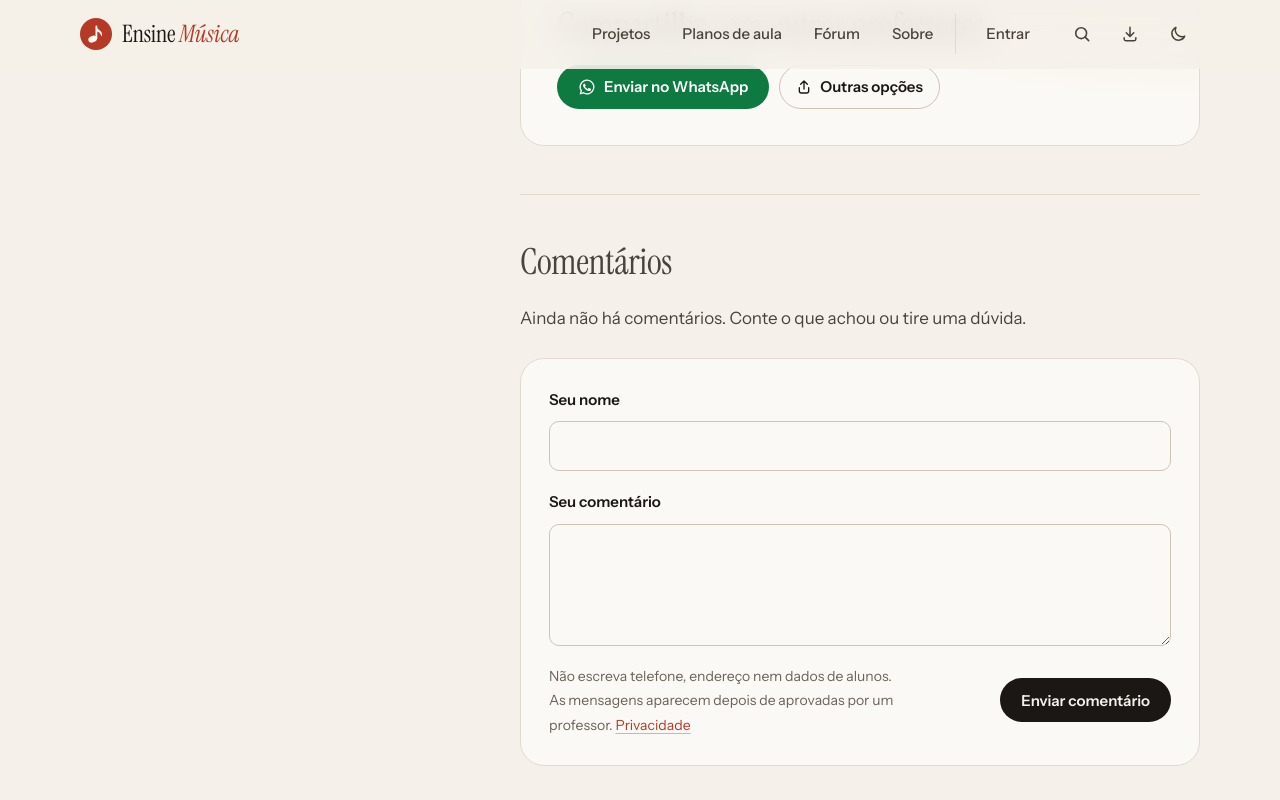
Test: visitante comenta num projeto: a mensagem espera aprovação e fica visível só para ele
(page scrolled)
expect the text "Ainda não há comentários. Conte o que achou ou tire uma dúvida." is shown: met, box [520, 308, 1026, 328]
Step 1. Type "Paula" into the field labelled "Seu nome" → (860,446), box [549, 421, 1171, 471]
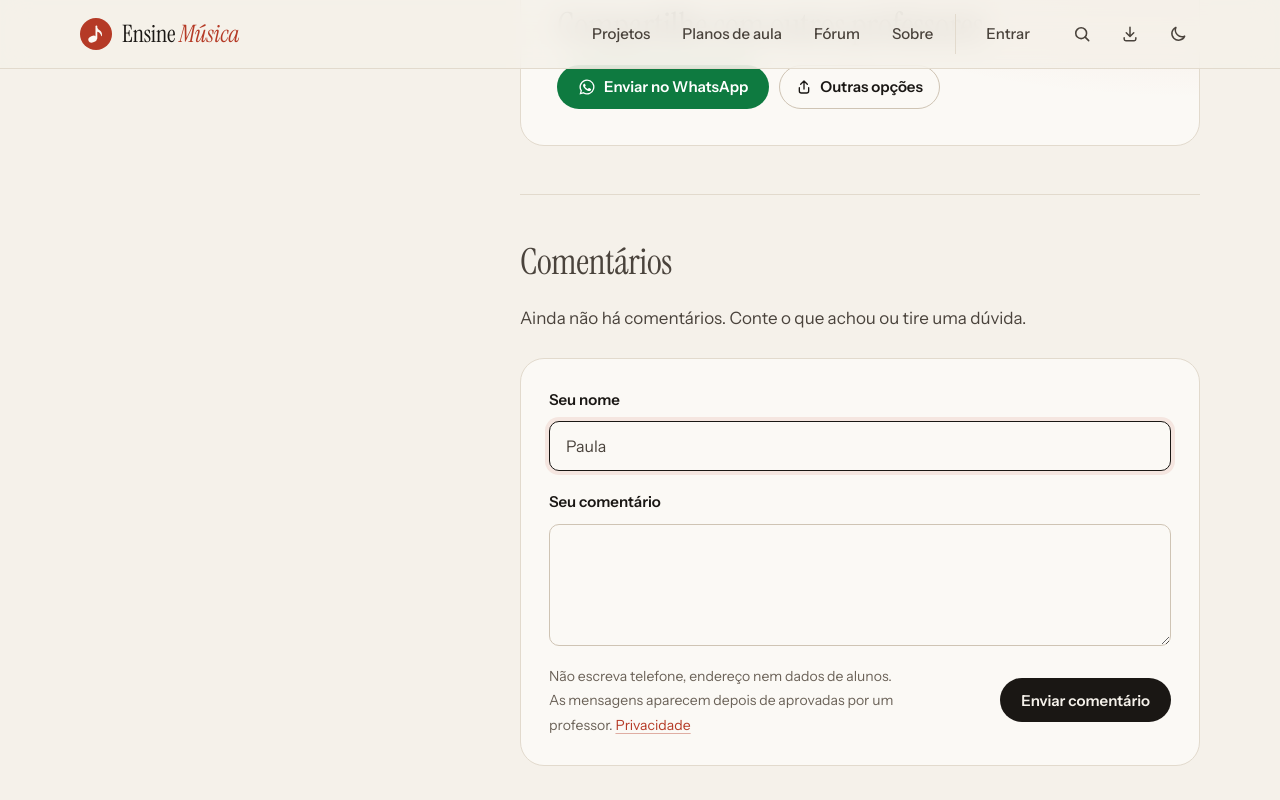
Step 2. Type "Adorei o projeto!" into the text box labelled "Seu comentário" → (860,585), box [549, 524, 1171, 646]
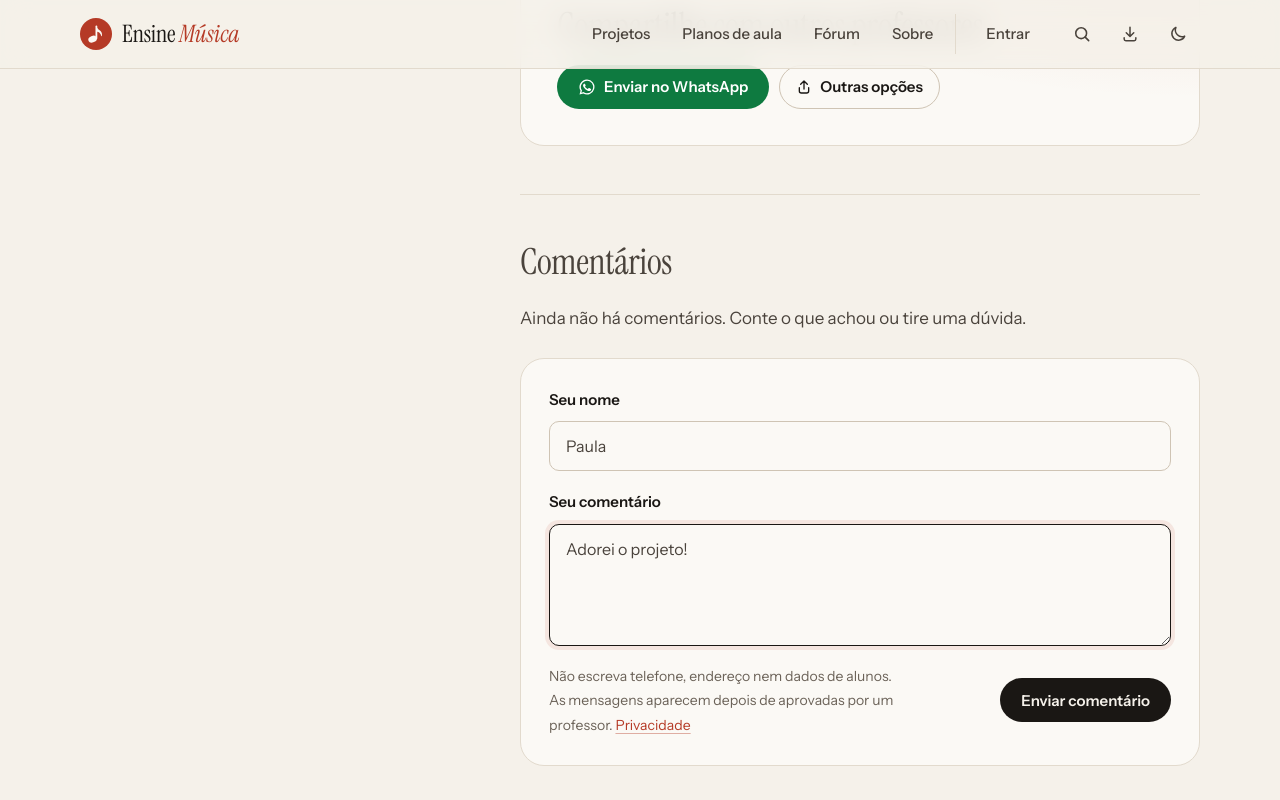
Step 3. Click the button "Enviar comentário" → (1086,700), box [1000, 678, 1171, 722]
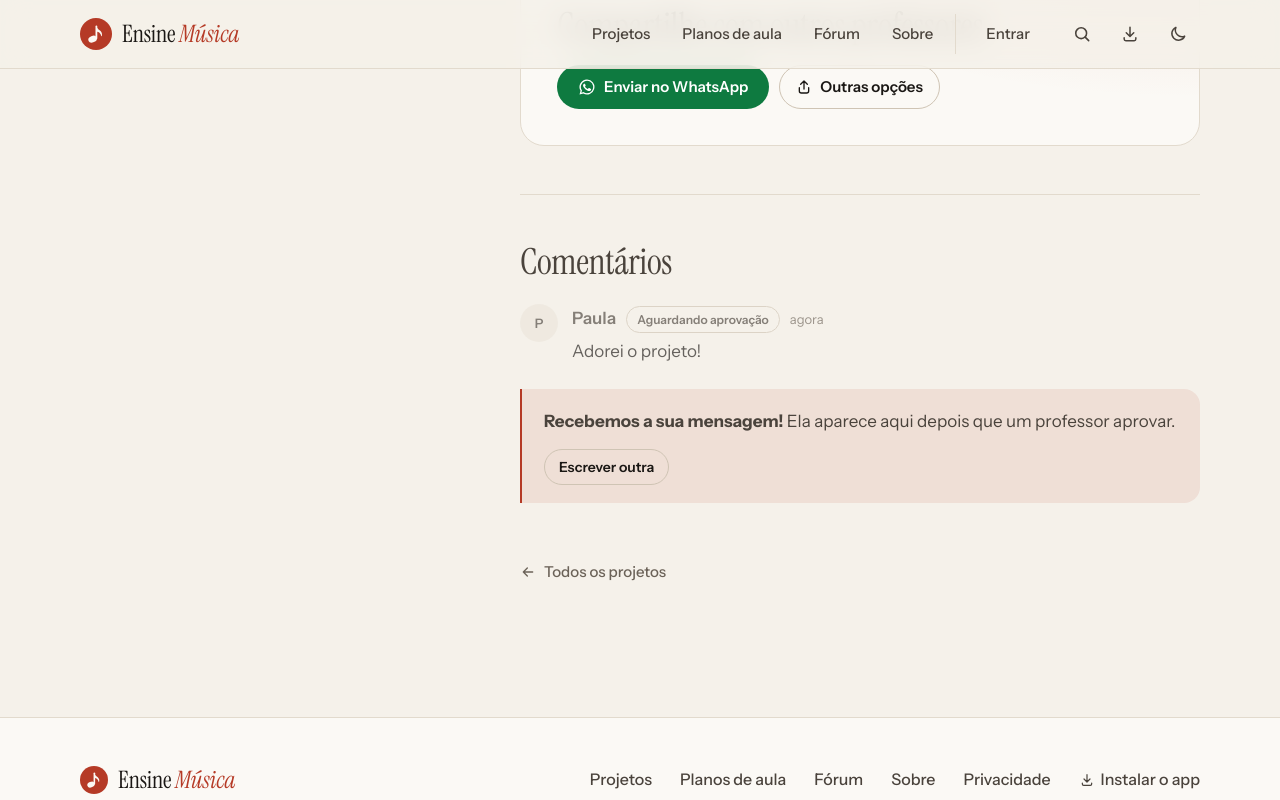
expect the text "Recebemos a sua mensagem!" is shown: met, box [544, 411, 783, 431]
expect the text "Adorei o projeto!" is shown: met, box [572, 341, 701, 361]
expect the text "Aguardando aprovação" is shown: met, box [626, 306, 780, 333]
